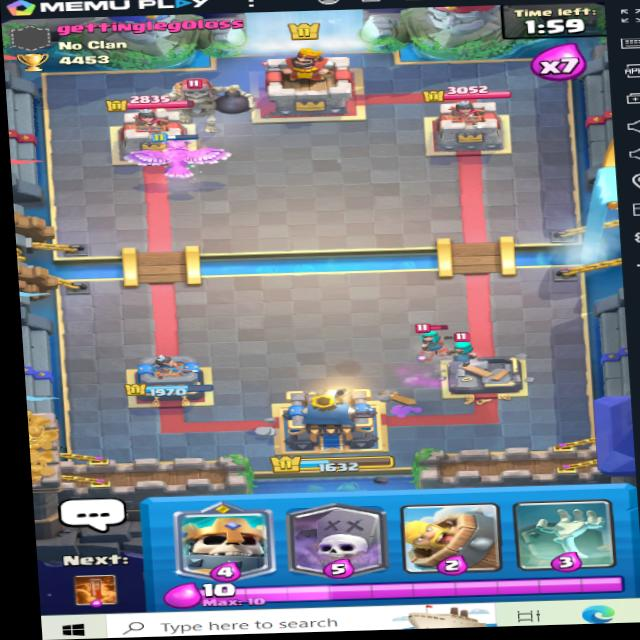giant-skeleton: (151, 71, 259, 136)
rascal-girl: (413, 323, 457, 355), (445, 330, 485, 362)
